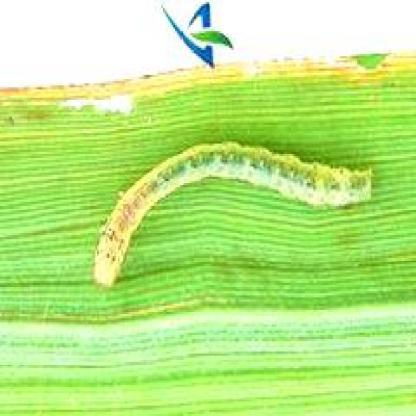leaf-folder: (92, 129, 382, 298)
